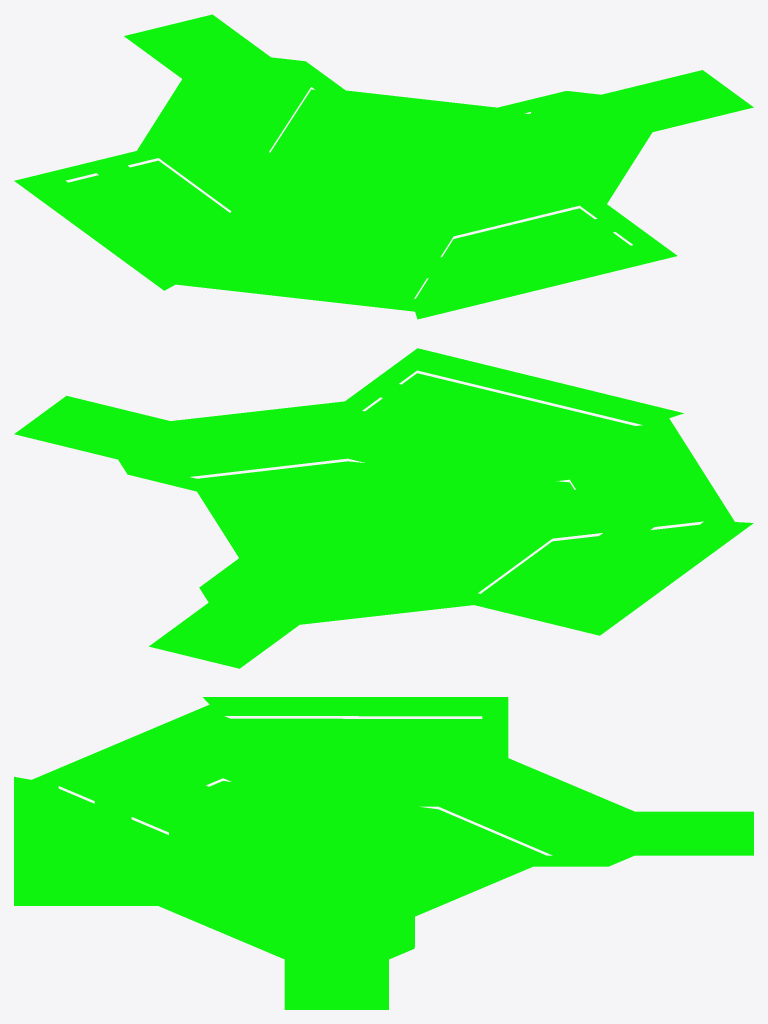
Rendered from s081_lb1-floor.glb.
3 renders of one model, top to bottom at view 1: azimuth 30°, elevation 25°; view 2: azimuth 150°, elevation 25°; view 3: azimuth 270°, elevation 25°, orthographic. The views are drawn at different scales.
Visible parts, largest first — view 1: collision_floor-colonly; view 2: collision_floor-colonly; view 3: collision_floor-colonly.
Part boxes in pixels (<box>): collision_floor-colonly: <box>14,14,753,319</box>; collision_floor-colonly: <box>14,348,753,668</box>; collision_floor-colonly: <box>14,697,753,1009</box>.
Size of the model in its own units: 49.68 by 0.1992 by 49.68.
